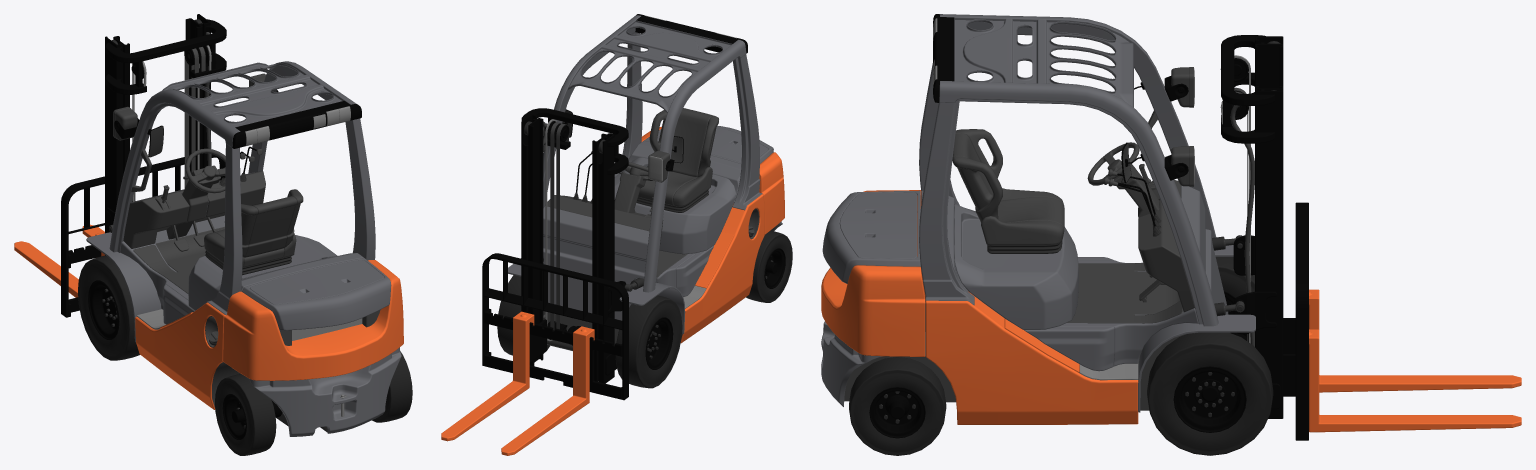
The model's file is ForkLift.fbx.
3 views of the same model, side by side, from view 1: azimuth 30°, elevation 25°; view 2: azimuth 150°, elevation 25°; view 3: azimuth 270°, elevation 25° (orthographic). The views are drawn at different scales.
Parts seen in each view (by area): view 1: AM98_011_forklift_carpaint_2, AM98_011_forklift_carpaint, AM98_011_forklift_carpaint_3, AM98_011_forklift_black_plastic, AM98_011_forklift_carpaint_black, AM98_011_forklift_carpaint_5, ForkLift_01, AM98_011_forklift_tire_fl, AM98_011_forklift_tire_rl, AM98_011_forklift_rubber, AM98_011_forklift_tire_rr, AM98_011_forklift_rim_fl (+5 smaller); view 2: AM98_011_forklift_carpaint_3, ForkLift_01, AM98_011_forklift_carpaint_black, AM98_011_forklift_black_plastic, AM98_011_forklift_carpaint_2, AM98_011_forklift_carpaint, AM98_011_forklift_tire_fl, AM98_011_forklift_tire_rl, AM98_011_forklift_rim_fl, AM98_011_forklift_rire_fr, AM98_011_forklift_black_shiny, AM98_011_forklift_rim_rl (+2 smaller); view 3: AM98_011_forklift_carpaint_3, AM98_011_forklift_carpaint, AM98_011_forklift_carpaint_2, AM98_011_forklift_carpaint_black, AM98_011_forklift_black_plastic, ForkLift_01, AM98_011_forklift_rire_fr, AM98_011_forklift_tire_rr, AM98_011_forklift_rubber, AM98_011_forklift_rim_fr, AM98_011_forklift_rim_rr, AM98_011_forklift_carpaint_5 (+3 smaller).
Part boxes in pixels (x1=…): AM98_011_forklift_carpaint_2: x1=120, y1=118, x2=391, y2=330; AM98_011_forklift_carpaint: x1=135, y1=260, x2=403, y2=409; AM98_011_forklift_carpaint_3: x1=86, y1=61, x2=356, y2=342; AM98_011_forklift_black_plastic: x1=113, y1=32, x2=380, y2=432; AM98_011_forklift_carpaint_black: x1=105, y1=14, x2=361, y2=255; AM98_011_forklift_carpaint_5: x1=248, y1=347, x2=401, y2=436; ForkLift_01: x1=14, y1=154, x2=225, y2=317; AM98_011_forklift_tire_fl: x1=78, y1=255, x2=139, y2=360; AM98_011_forklift_tire_rl: x1=215, y1=373, x2=276, y2=455; AM98_011_forklift_rubber: x1=133, y1=226, x2=224, y2=293; AM98_011_forklift_tire_rr: x1=372, y1=351, x2=412, y2=422; AM98_011_forklift_rim_fl: x1=88, y1=280, x2=119, y2=339; AM98_011_forklift_carpaint_3: x1=508, y1=15, x2=746, y2=334; ForkLift_01: x1=441, y1=253, x2=628, y2=455; AM98_011_forklift_carpaint_black: x1=521, y1=14, x2=747, y2=383; AM98_011_forklift_black_plastic: x1=543, y1=108, x2=780, y2=350; AM98_011_forklift_carpaint_2: x1=614, y1=32, x2=773, y2=296; AM98_011_forklift_carpaint: x1=641, y1=126, x2=784, y2=343; AM98_011_forklift_tire_fl: x1=615, y1=295, x2=682, y2=388; AM98_011_forklift_tire_rl: x1=746, y1=230, x2=792, y2=302; AM98_011_forklift_rim_fl: x1=645, y1=317, x2=673, y2=369; AM98_011_forklift_rire_fr: x1=497, y1=275, x2=549, y2=355; AM98_011_forklift_black_shiny: x1=524, y1=121, x2=753, y2=290; AM98_011_forklift_rim_rl: x1=764, y1=248, x2=785, y2=288; AM98_011_forklift_carpaint_3: x1=939, y1=14, x2=1255, y2=412; AM98_011_forklift_carpaint: x1=821, y1=190, x2=1138, y2=424; AM98_011_forklift_carpaint_2: x1=822, y1=63, x2=1198, y2=371; AM98_011_forklift_carpaint_black: x1=933, y1=14, x2=1283, y2=418; AM98_011_forklift_black_plastic: x1=844, y1=67, x2=1254, y2=410; ForkLift_01: x1=1283, y1=202, x2=1521, y2=440; AM98_011_forklift_rire_fr: x1=1147, y1=332, x2=1273, y2=455; AM98_011_forklift_tire_rr: x1=849, y1=357, x2=946, y2=455; AM98_011_forklift_rubber: x1=1067, y1=263, x2=1182, y2=323; AM98_011_forklift_rim_fr: x1=1173, y1=366, x2=1246, y2=432; AM98_011_forklift_rim_rr: x1=869, y1=387, x2=925, y2=438; AM98_011_forklift_carpaint_5: x1=821, y1=321, x2=882, y2=406.
Bounding box in the file's own units: 118 × 212 × 371.
